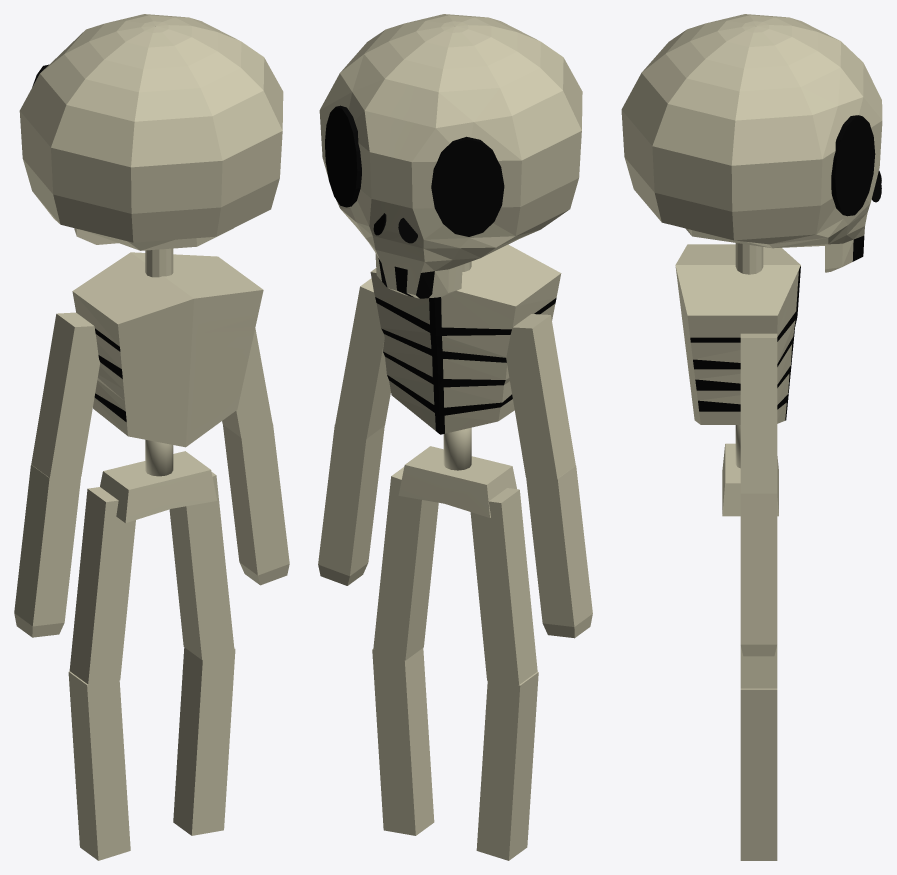
The model's file is Дефолт Скелет.fbx.
The picture shows the model from 3 angles, left to right: view 1: azimuth 30°, elevation 25°; view 2: azimuth 150°, elevation 25°; view 3: azimuth 270°, elevation 25°; orthographic projection.
Visible parts, largest first — view 1: Plane.005, Cube.076, Cube.005, Cube.004, Cube.002, Cube.001, Cube.003; view 2: Plane.005, Cube.076, Cube.005, Cube.004, Cube.002, Cube.001, Cube.003; view 3: Plane.005, Cube.076, Cube.005, Cube.002, Cube.001, Cube.003, Cube.004.
Boxes of the visible parts, bbox=[...] form: Plane.005: bbox=[19, 14, 283, 250]; Cube.076: bbox=[72, 248, 263, 447]; Cube.005: bbox=[68, 647, 235, 860]; Cube.004: bbox=[69, 472, 234, 684]; Cube.002: bbox=[14, 423, 289, 637]; Cube.001: bbox=[31, 312, 272, 478]; Cube.003: bbox=[100, 439, 217, 523]; Plane.005: bbox=[319, 14, 582, 298]; Cube.076: bbox=[370, 244, 561, 434]; Cube.005: bbox=[372, 648, 538, 860]; Cube.004: bbox=[373, 467, 537, 684]; Cube.002: bbox=[318, 425, 592, 638]; Cube.001: bbox=[335, 278, 575, 479]; Cube.003: bbox=[398, 427, 516, 517]; Plane.005: bbox=[621, 14, 882, 272]; Cube.076: bbox=[675, 243, 800, 424]; Cube.005: bbox=[740, 688, 777, 860]; Cube.002: bbox=[740, 493, 777, 656]; Cube.001: bbox=[740, 333, 777, 493]; Cube.003: bbox=[722, 425, 778, 516]; Cube.004: bbox=[740, 645, 777, 688].
Size of the model in its own units: 91.6 by 277 by 81.33.
